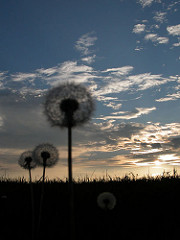dandelion: (43, 76, 103, 141), (15, 139, 61, 175), (93, 185, 126, 215)
